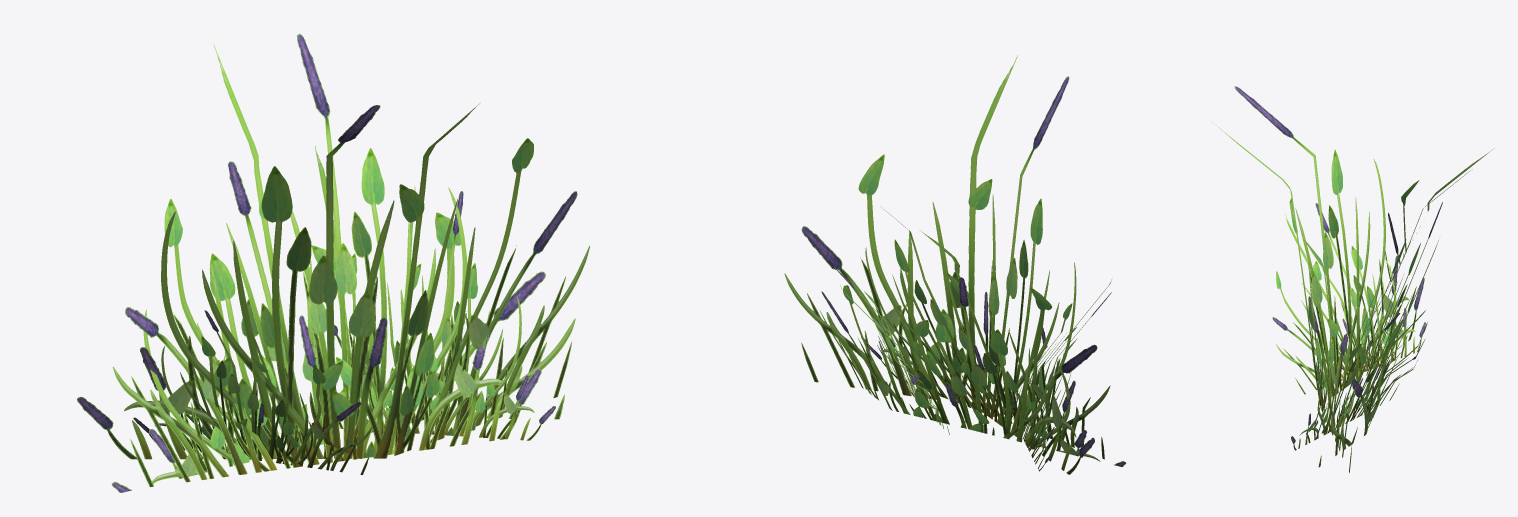
File: flowerplant2_lod1.fbx
3 renders of one model, left to right at view 1: azimuth 30°, elevation 25°; view 2: azimuth 150°, elevation 25°; view 3: azimuth 270°, elevation 25°, orthographic. The views are drawn at different scales.
Visible parts, largest first — view 1: Mesh Object; view 2: Mesh Object; view 3: Mesh Object.
Part boxes in pixels (x1,y1,x2,y2): Mesh Object: (77,33,589,492); Mesh Object: (784,55,1126,474); Mesh Object: (1211,86,1494,472).
Size of the model in its own units: 2.82 by 2.06 by 1.9.
